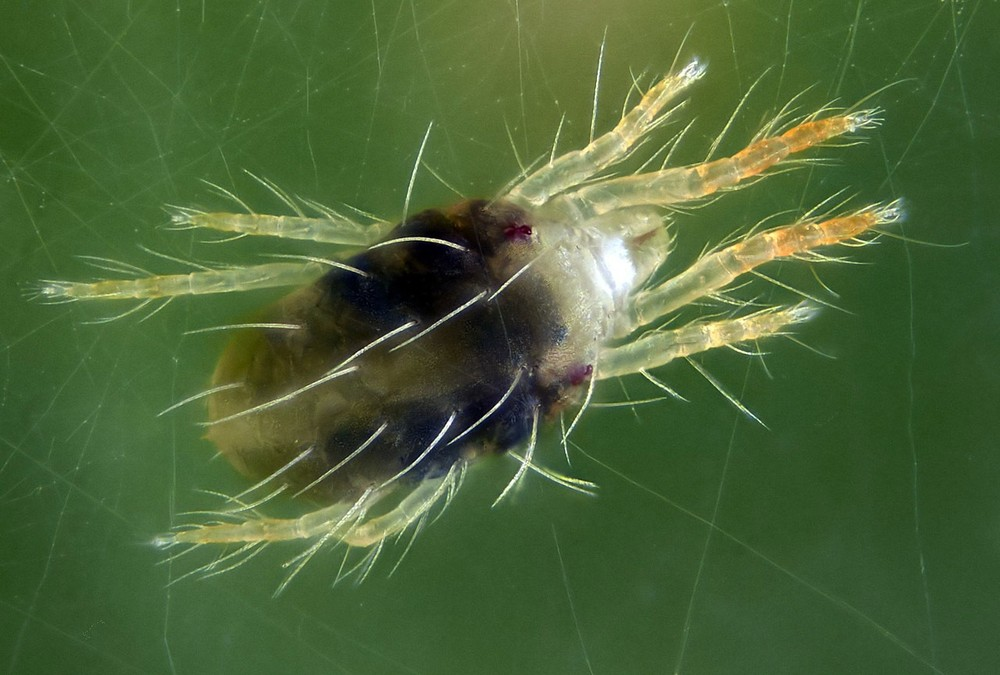Aracnido Rojo: (65, 63, 917, 569)
